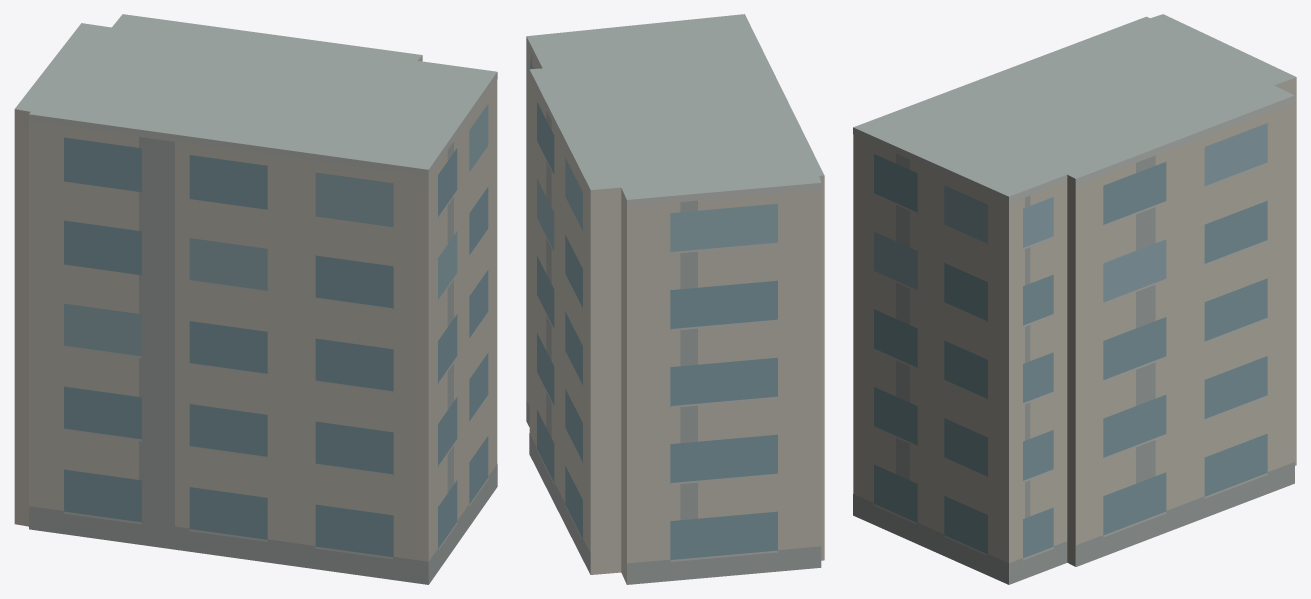
The model's file is survey-upis-32924993.glb.
3 views of the same model, side by side, from view 1: azimuth 30°, elevation 25°; view 2: azimuth 150°, elevation 25°; view 3: azimuth 270°, elevation 25° (orthographic). The views are drawn at different scales.
Parts seen in each view (by area): view 1: survey-upis-32924993.tmp; view 2: survey-upis-32924993.tmp; view 3: survey-upis-32924993.tmp.
Part boxes in pixels (x1=…): survey-upis-32924993.tmp: x1=14, y1=14, x2=497, y2=584; survey-upis-32924993.tmp: x1=526, y1=14, x2=824, y2=584; survey-upis-32924993.tmp: x1=853, y1=14, x2=1296, y2=584.
Bounding box in the file's own units: 13.84 × 13.7 × 14.2.
